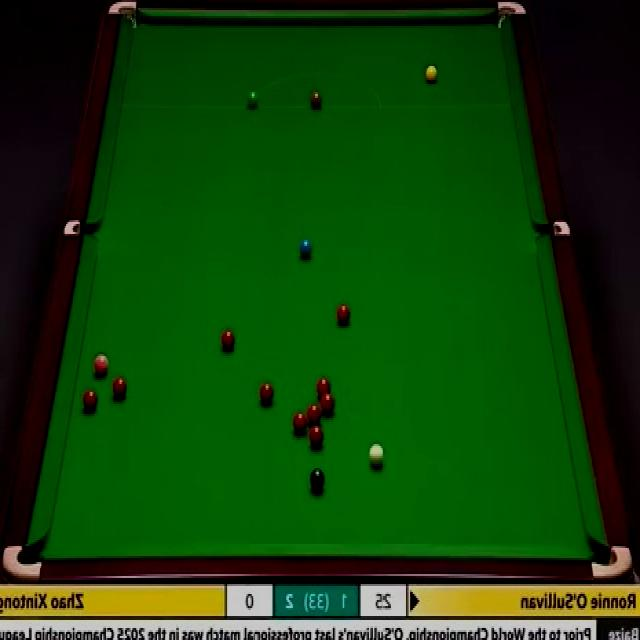black-ball: (310, 464, 326, 492)
blue-ball: (299, 237, 311, 260)
brown-ball: (309, 91, 323, 109)
green-ball: (245, 88, 260, 110)
pink-ball: (93, 353, 110, 375)
red-ball: (258, 380, 276, 408), (308, 424, 324, 452), (80, 388, 98, 412), (220, 328, 237, 351), (334, 305, 352, 326), (113, 375, 128, 400), (316, 378, 333, 398), (321, 393, 334, 418), (307, 403, 320, 428), (293, 411, 305, 438)
white-ball: (369, 443, 386, 472)
yellow-ball: (425, 64, 438, 86)
